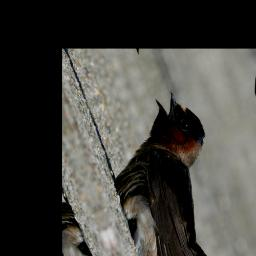Swallow: (88, 81, 239, 256)
